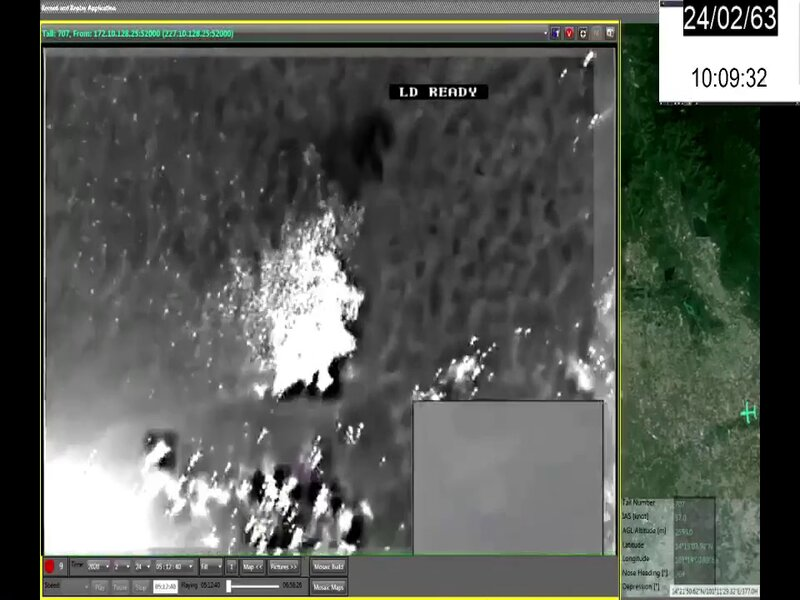Fire: (247, 209, 365, 400)
